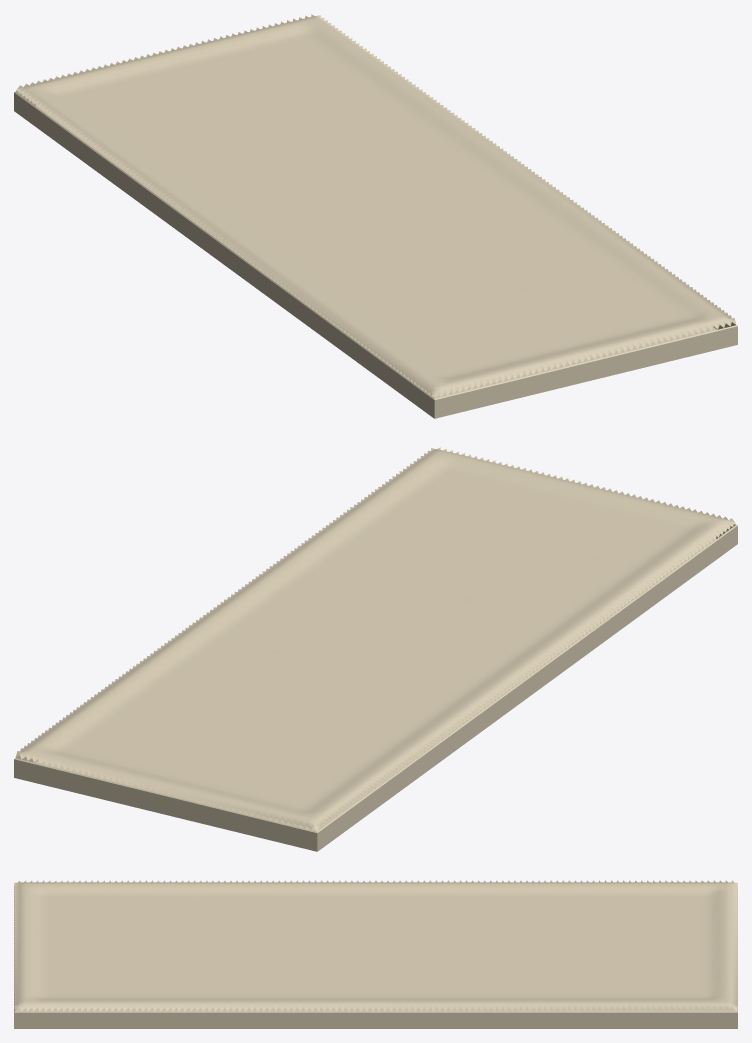
The model's file is mahsulot.glb.
3 views of the same model, one above another, from view 1: azimuth 30°, elevation 25°; view 2: azimuth 150°, elevation 25°; view 3: azimuth 270°, elevation 25° (orthographic). The views are drawn at different scales.
Parts seen in each view (by area): view 1: mahsulot; view 2: mahsulot; view 3: mahsulot.
Part boxes in pixels (x1,y1,x2,y2): mahsulot: (14, 14, 737, 418); mahsulot: (14, 447, 737, 851); mahsulot: (14, 880, 737, 1028).
Size of the model in its own units: 0.5 by 0.0398 by 1.2.
